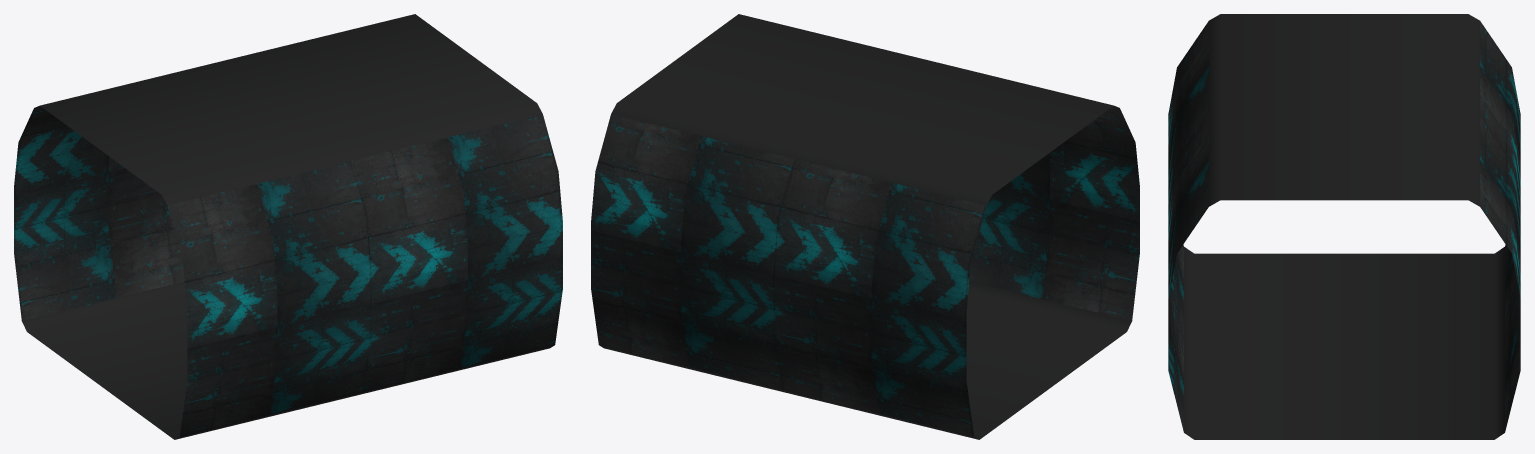
File: corridor_straight.fbx
3 renders of one model, left to right at view 1: azimuth 30°, elevation 25°; view 2: azimuth 150°, elevation 25°; view 3: azimuth 270°, elevation 25°, orthographic.
Parts seen in each view (by area): view 1: corridor_straight; view 2: corridor_straight; view 3: corridor_straight.
Boxes of the visible parts, <box> form: corridor_straight: <box>14,14,562,439</box>; corridor_straight: <box>591,14,1139,439</box>; corridor_straight: <box>1168,14,1520,439</box>.
Bounding box in the file's own units: 500 × 300 × 400.
